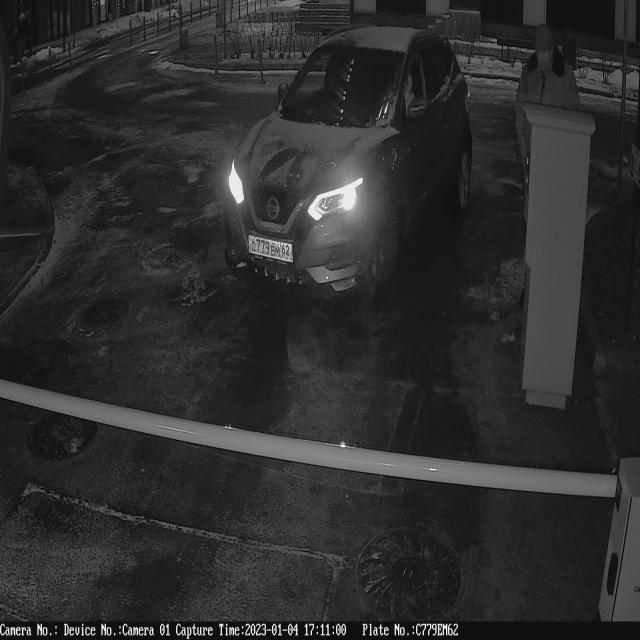car-plate-numbers: (246, 230, 297, 269)
